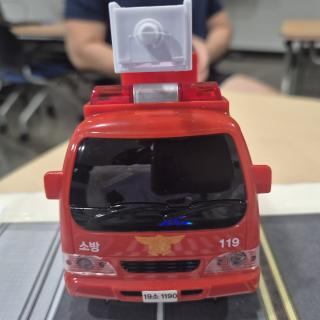Fire_truck: (44, 0, 271, 302)
